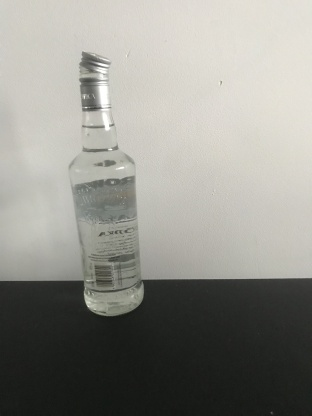nakretka: (77, 48, 113, 111)
